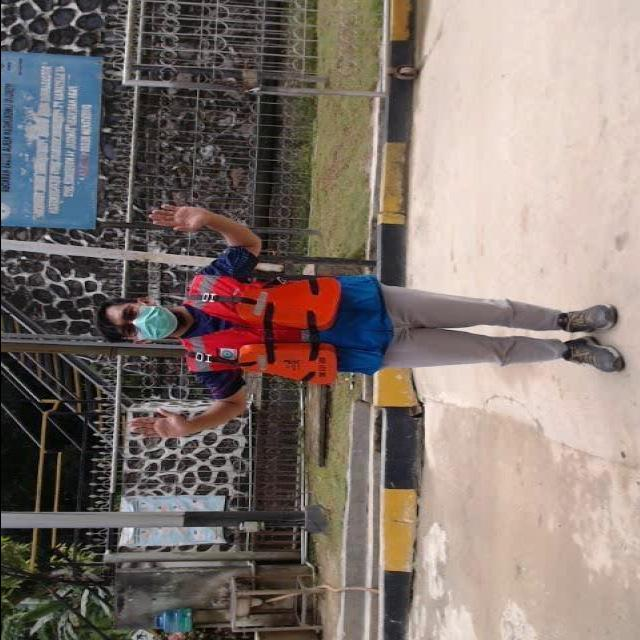jacket: (172, 258, 340, 391)
